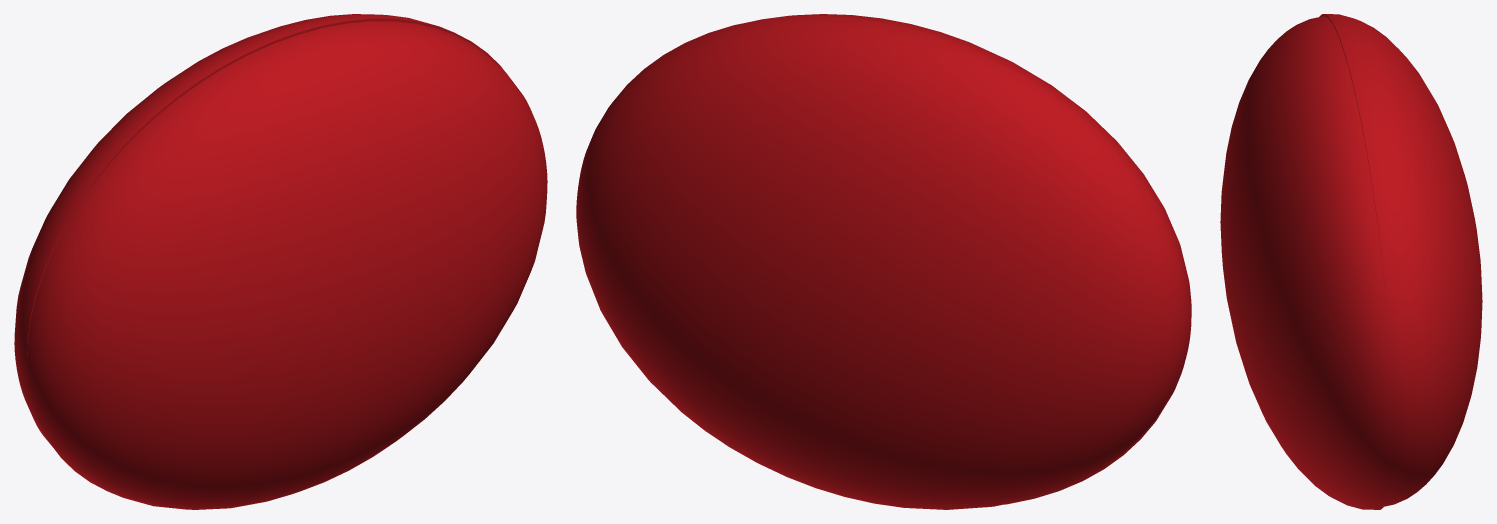
Rendered from ovale.glb.
3 views of the same model, side by side, from view 1: azimuth 30°, elevation 25°; view 2: azimuth 150°, elevation 25°; view 3: azimuth 270°, elevation 25° (orthographic). The views are drawn at different scales.
Visible parts, largest first — view 1: bonbon type 1; view 2: bonbon type 1; view 3: bonbon type 1.
Boxes of the visible parts, x1=… form: bonbon type 1: x1=14, y1=14, x2=547, y2=509; bonbon type 1: x1=576, y1=14, x2=1191, y2=509; bonbon type 1: x1=1220, y1=14, x2=1482, y2=509.
Size of the model in its own units: 0.0647 by 0.0514 by 0.028.
